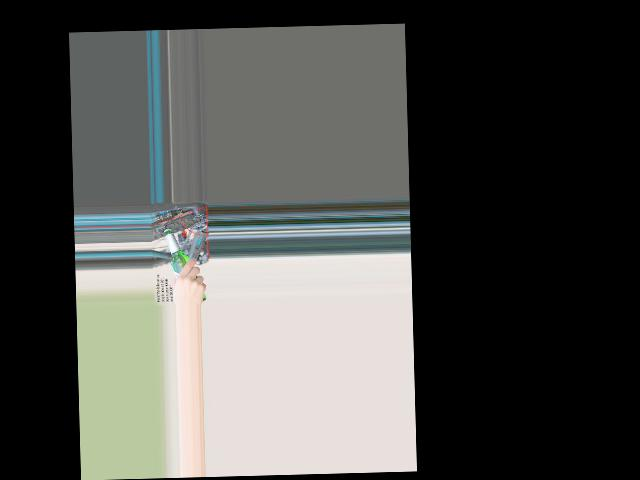beer: (164, 226, 206, 302)
